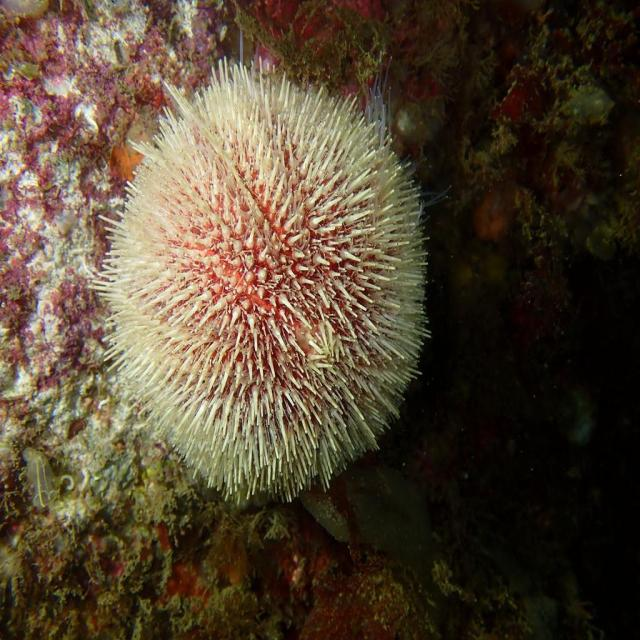Deniz Kestanesi: (87, 57, 431, 505)
